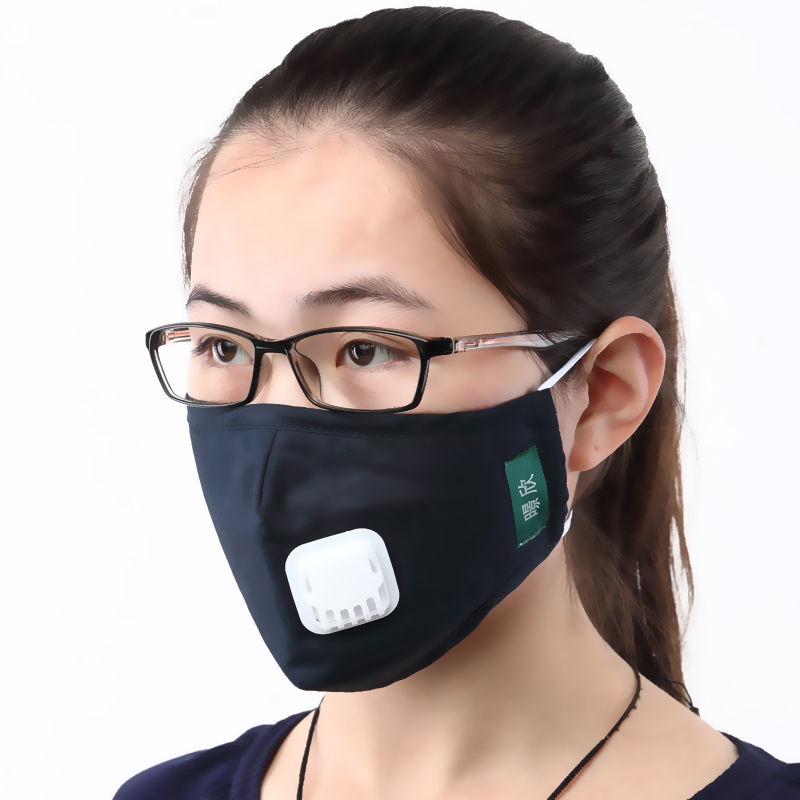face_mask: (172, 148, 545, 655)
